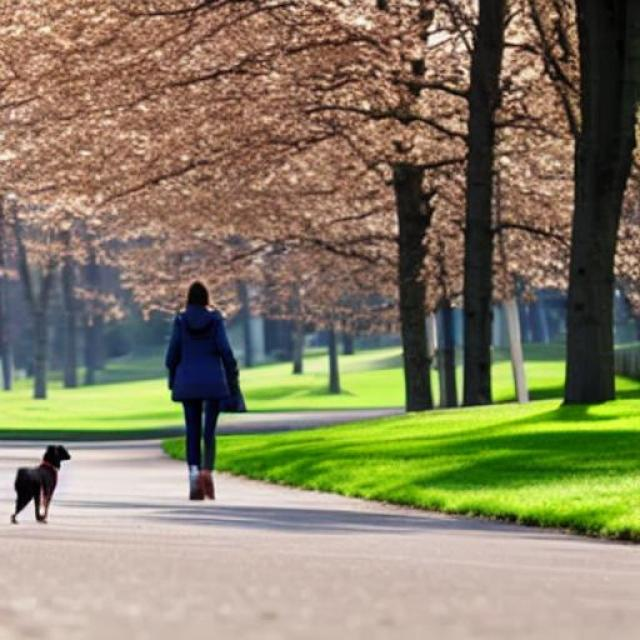Unleashed_Dog: (11, 399, 220, 525)
